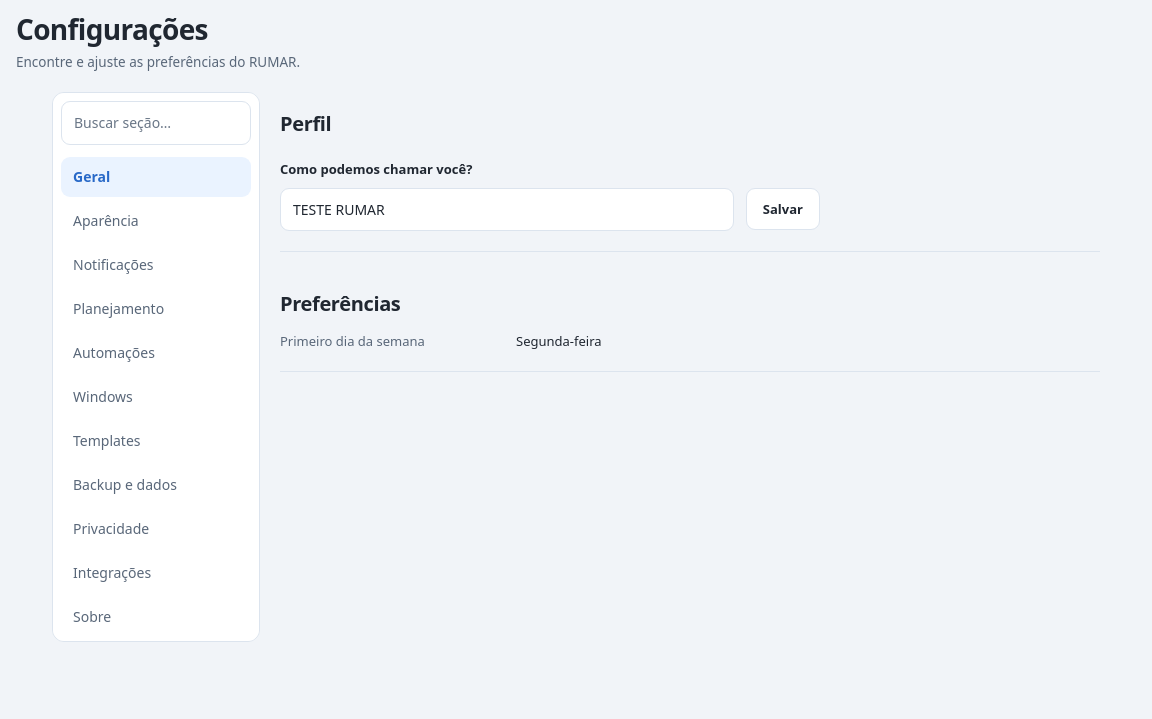
Test: surfaces an inaccessible backup directory without losing the settings screen
What coordinates should you click on to do the following:
click the button "Backup e dados"
I would click on:
 (156, 485)
Its box is [61,465,251,505].
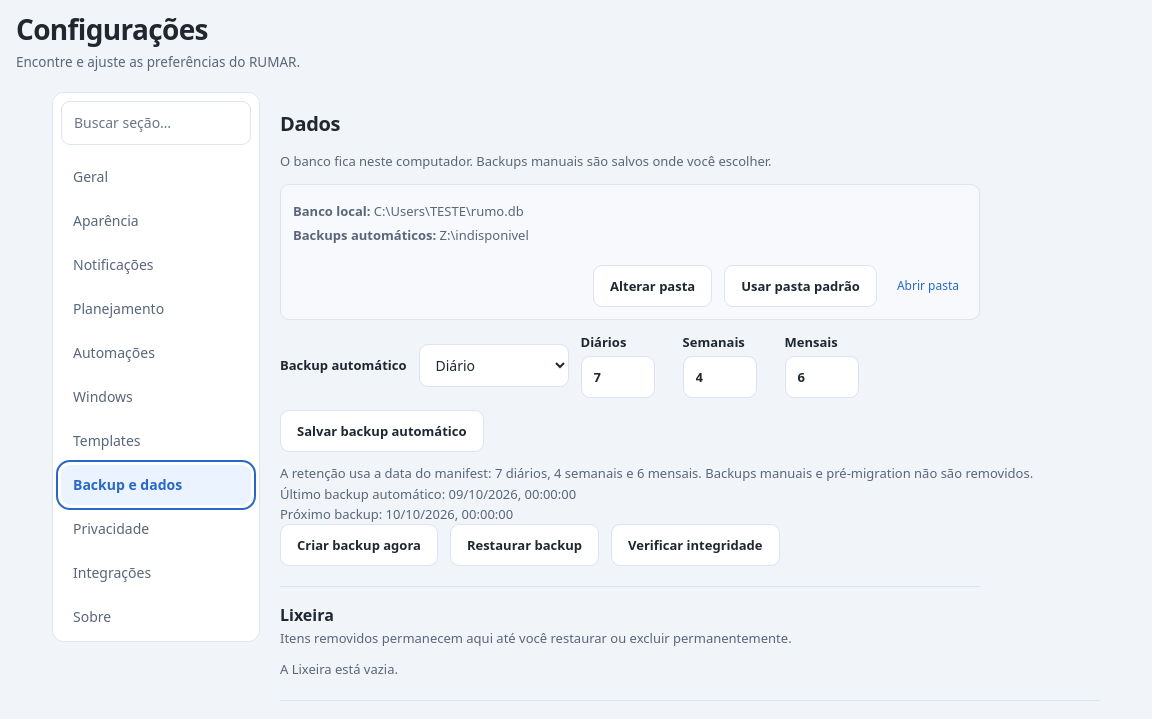
What coordinates should you click on to do the following:
click the button "Abrir pasta"
I would click on:
 (928, 286)
Its box is [889,265,967,307].
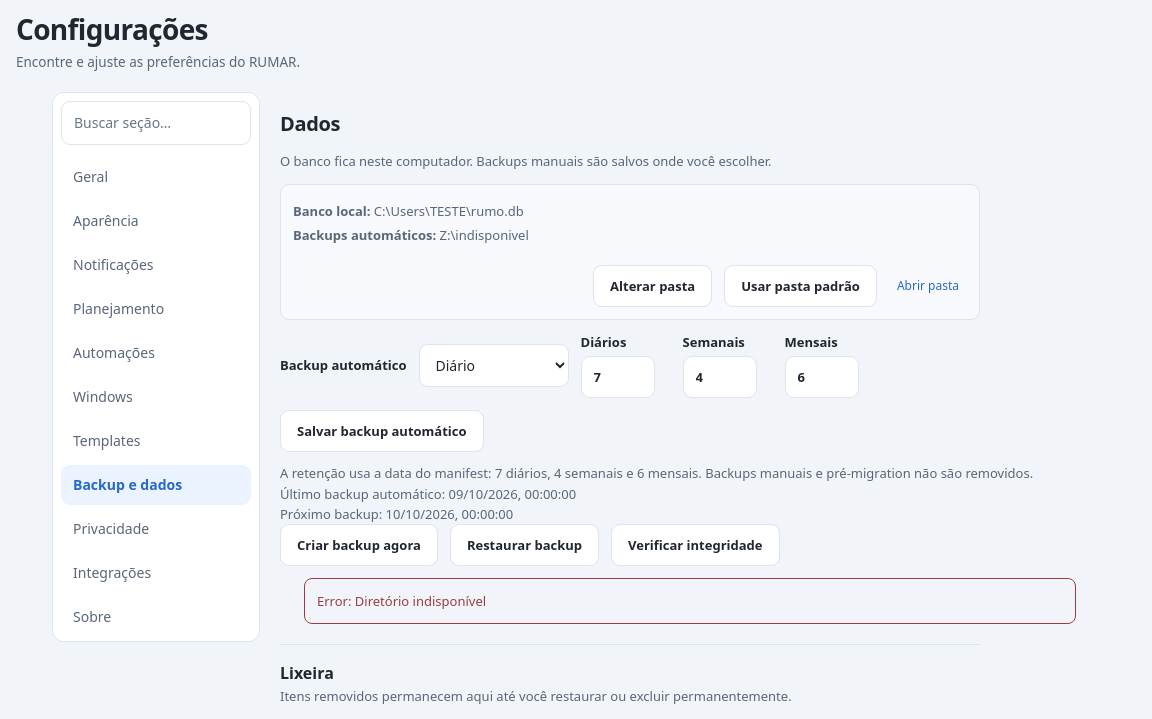
expect the heading "Dados" is shown: met, box [280,110,340,137]
expect the message shows "Diretório indisponível": met, box [317,592,486,610]
